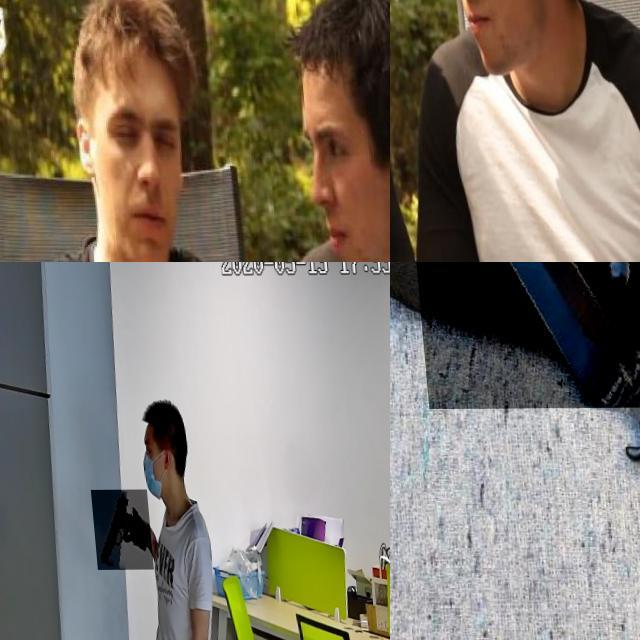-: (400, 262, 640, 421), (390, 17, 438, 226)
gun-knife-thesis - v11 Yolov5 augmented: (86, 490, 148, 570)
